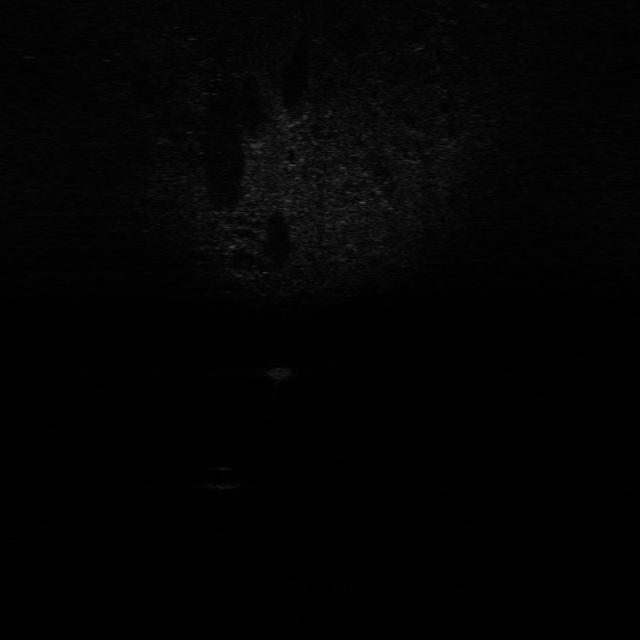ball: (207, 464, 246, 492)
cube: (264, 360, 296, 383)
